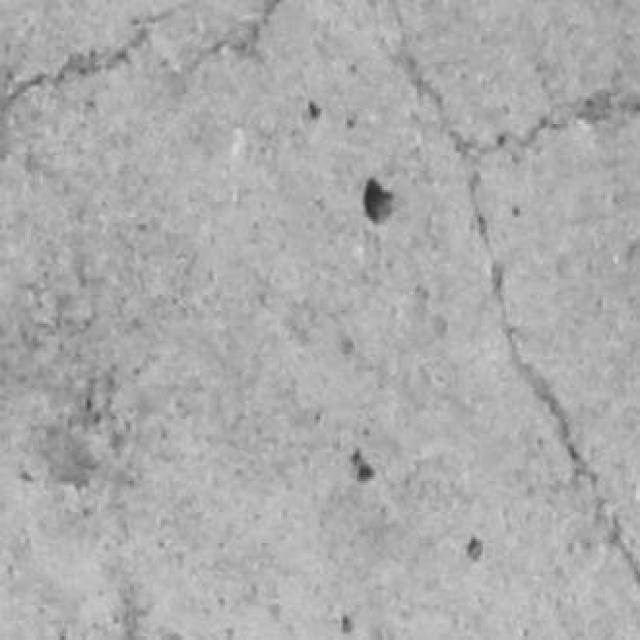crack: (384, 0, 639, 589), (383, 0, 639, 159), (2, 8, 178, 114), (189, 0, 283, 71)
